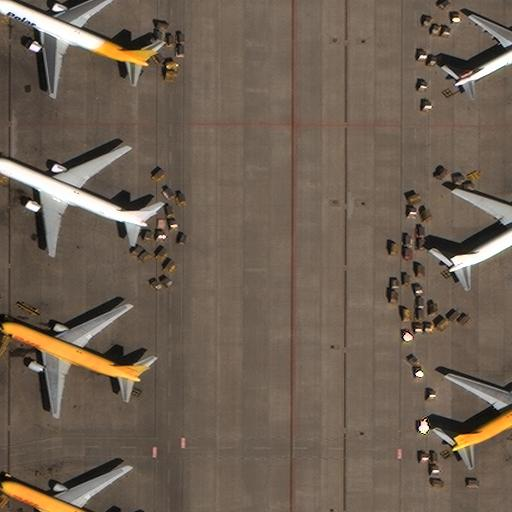Large Civil Transport: (0, 146, 148, 255), (0, 304, 140, 415), (0, 0, 148, 98), (447, 186, 511, 285), (0, 465, 133, 512), (448, 372, 511, 467), (454, 13, 511, 93)
